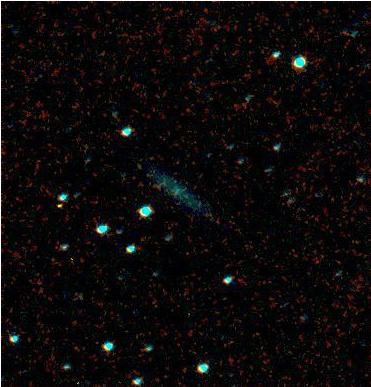star: (44, 189, 74, 219)
